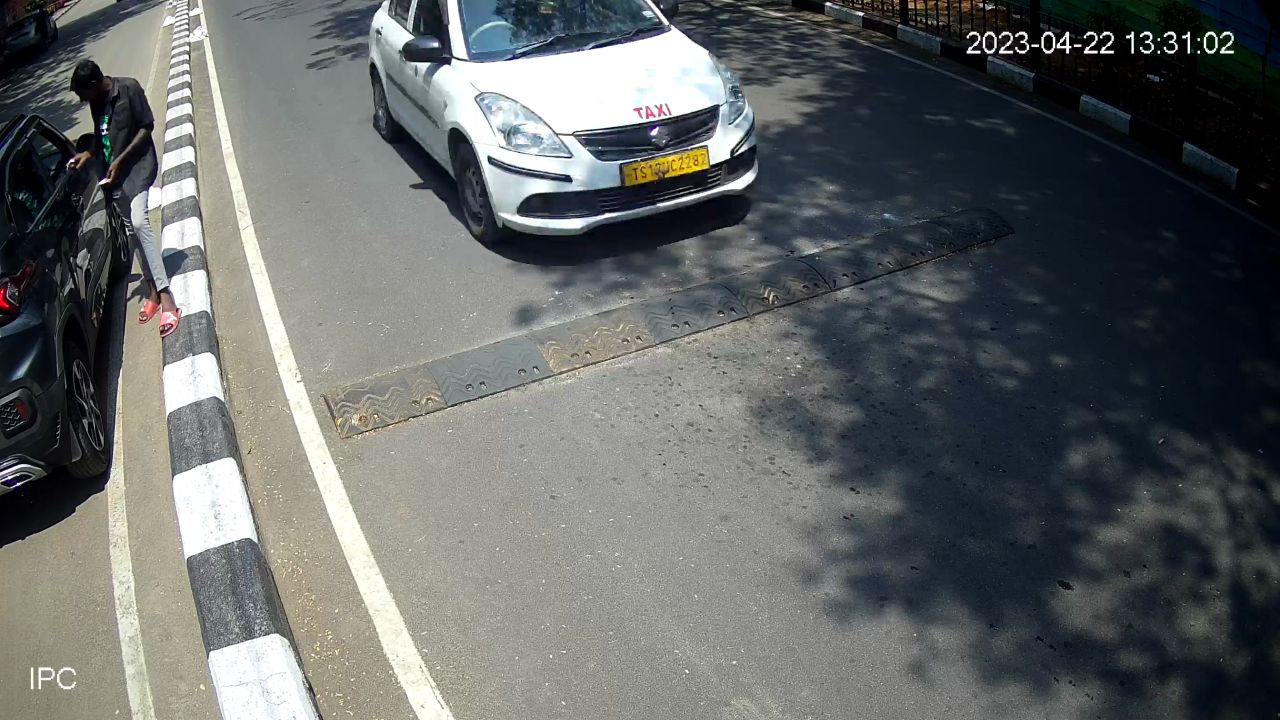license_plate: (615, 141, 714, 193)
